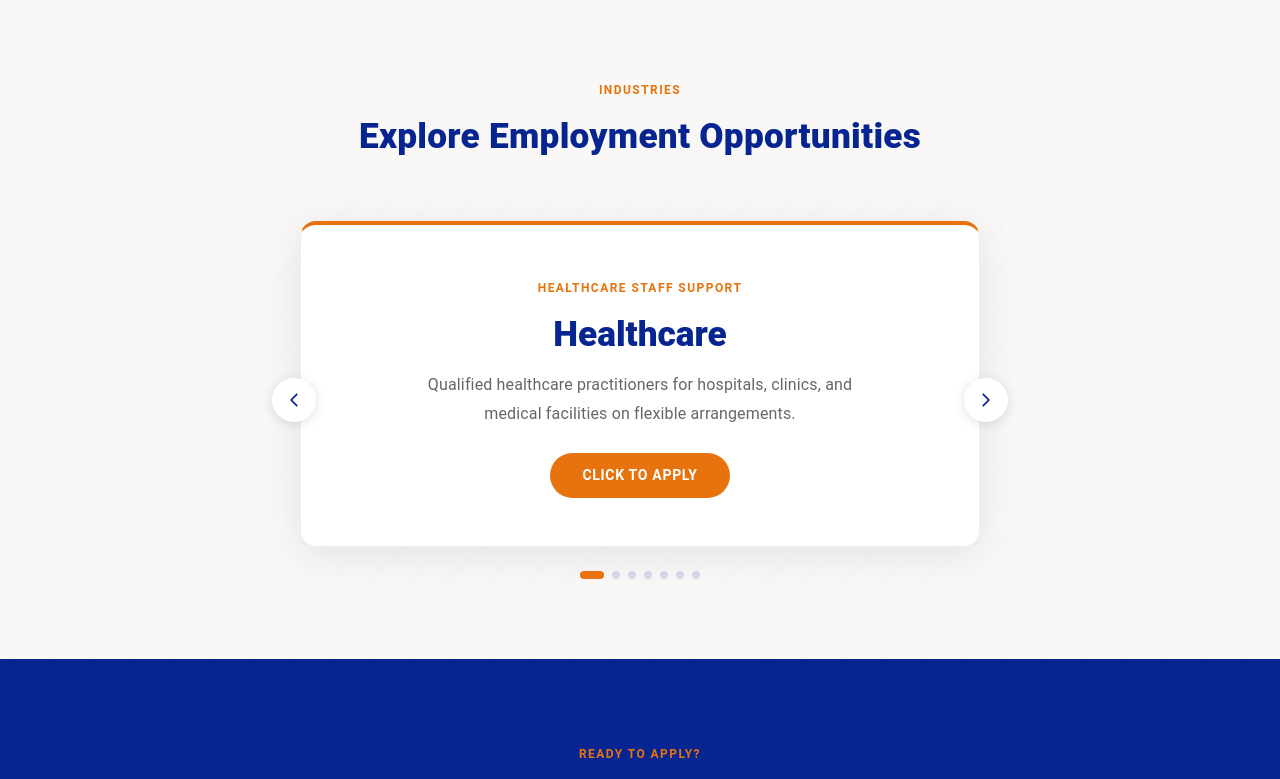
Test: Card slideshow › clicking Next advances to second card — Administration
(page scrolled)
Click the button named "next".
click(986, 400)  # box [964, 378, 1008, 422]
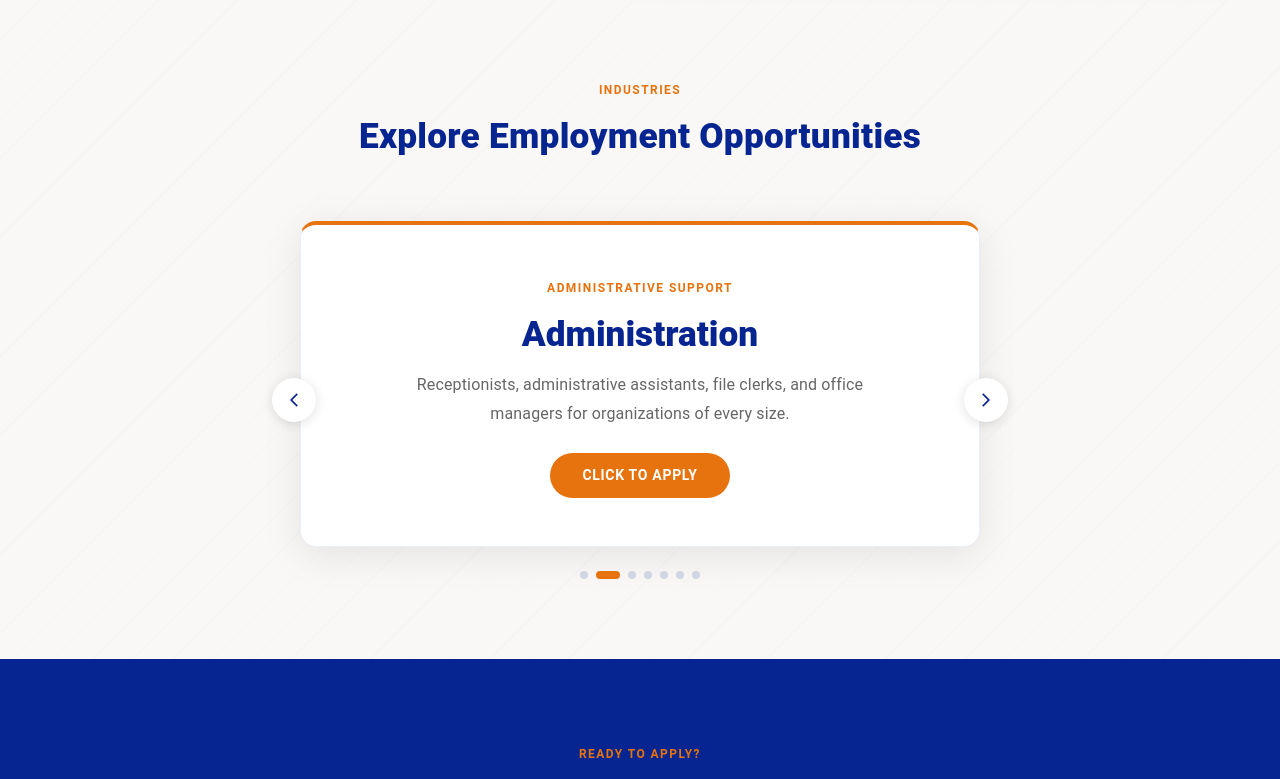
Check: the heading "Administration" is shown, box [522, 313, 758, 355]
Check: the text "Administrative Support" is shown, box [547, 281, 733, 295]
